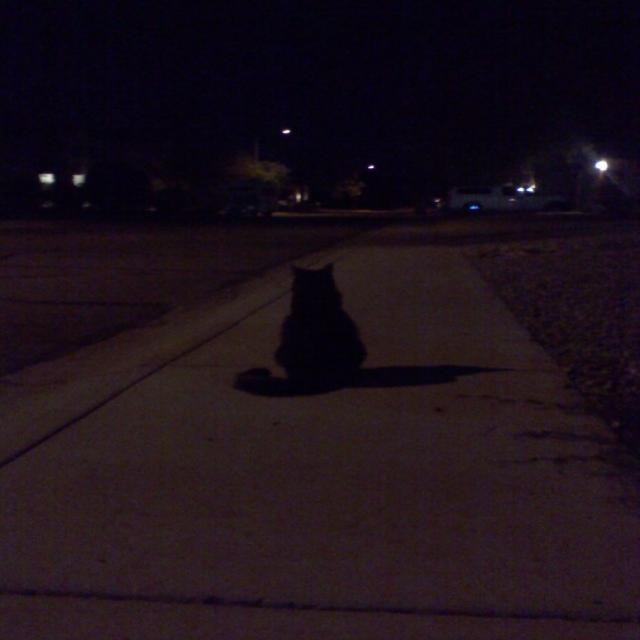Cat: (202, 262, 409, 406)
car: (431, 175, 583, 228)
